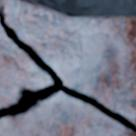brick: (2, 0, 135, 122), (0, 93, 135, 135), (0, 27, 51, 106)
crack: (0, 0, 135, 133), (17, 0, 36, 5)
